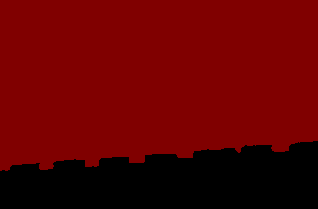Sky: (1, 1, 317, 170)
